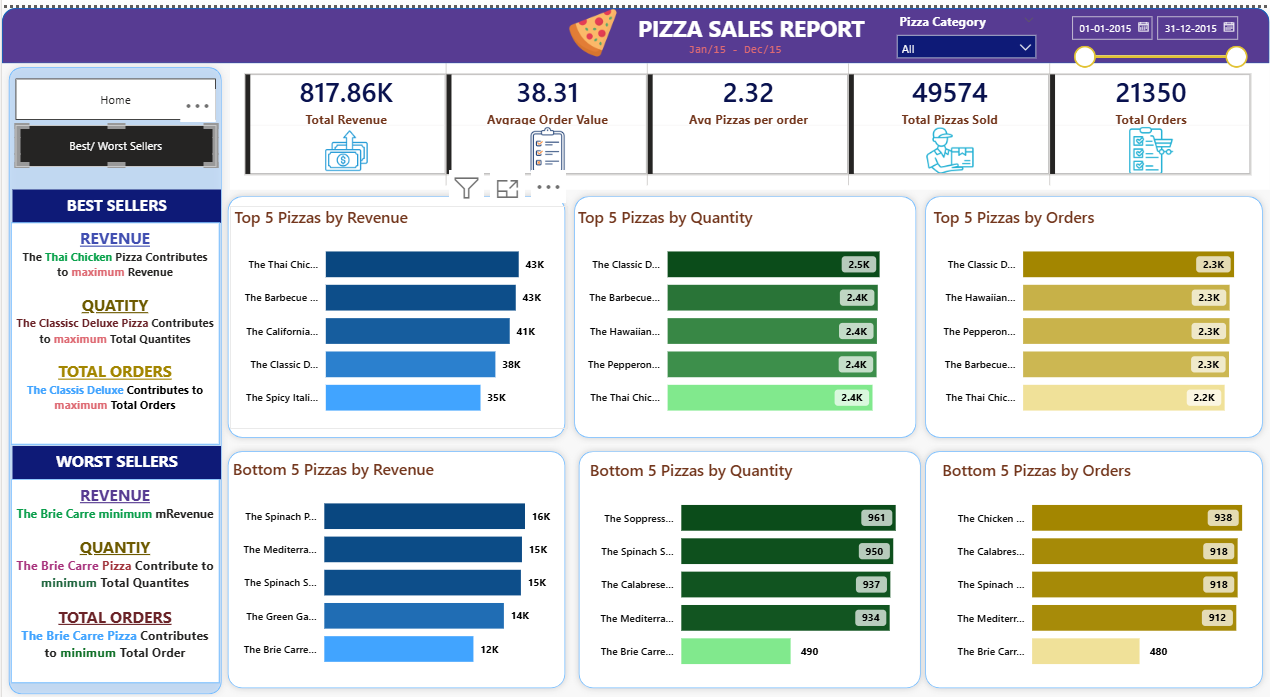

What the dashboard file says about the page in this screenshot:
{"tool":"powerbi","page":{"name":"Best/ Worst Sellers","canvas":[1500,820],"ordinal":1},"visuals":[{"type":"cardVisual","fields":{"Data":["pizza_sales.Total Revenue","pizza_sales.Avgrage Order Value","pizza_sales.Avg Pizzas per order","pizza_sales.Total Pizzas Sold","pizza_sales.Total Orders"]},"box":[269.7,60.3,1229.7,154.4],"z":0},{"type":"actionButton","box":[0,0,100,40],"z":1000},{"type":"shape","box":[0,0,1499.4,65.7],"z":2000},{"type":"textbox","box":[724,0,324.7,58.6],"z":3000},{"type":"textbox","box":[807.4,33.7,136.6,28.4],"z":4000},{"type":"image","box":[647.7,0,102.9,58.6],"z":5000},{"type":"shape","box":[0,62.1,267.9,757.7],"z":12000},{"type":"textbox","box":[12.4,214.7,246.6,39],"z":17000},{"type":"textbox","box":[10.6,253.7,246.6,262.6],"z":18000},{"type":"textbox","box":[12.4,518.1,246.6,39],"z":19000},{"type":"textbox","box":[10.6,557.2,246.6,241.3],"z":20000},{"type":"slicer","fields":{"Values":["pizza_sales.pizza_category"]},"box":[1048.7,0,184.5,63.9],"z":21000},{"type":"slicer","fields":{"Values":["pizza_sales.order_date"]},"box":[1252.8,0,228.9,83.4],"z":22000},{"type":"shape","box":[259.1,214.7,415.2,301.7],"z":22001},{"type":"shape","box":[669,214.7,420.5,301.7],"z":22002},{"type":"shape","box":[1084.2,214.7,415.2,301.7],"z":22003},{"type":"shape","box":[259.1,516.4,415.2,296.3],"z":22004},{"type":"shape","box":[674.3,516.4,420.5,296.3],"z":22005},{"type":"shape","box":[1084.2,516.4,415.2,296.3],"z":22006},{"type":"barChart","title":"Top 5 Pizzas by Revenue","fields":{"Category":["pizza_sales.pizza_name"],"Y":["pizza_sales.Total Revenue"]},"box":[270.2,234.7,398.6,263.5],"z":22007},{"type":"barChart","title":"Bottom 5 Pizzas by Revenue","fields":{"Category":["pizza_sales.pizza_name"],"Y":["pizza_sales.Total Revenue"]},"box":[268.8,533,398.5,262.6],"z":22008},{"type":"barChart","title":"Top 5 Pizzas by Quantity","fields":{"Category":["pizza_sales.pizza_name"],"Y":["pizza_sales.Total Pizzas Sold"]},"box":[675.4,234.7,392,263.5],"z":22009},{"type":"barChart","title":"Bottom 5 Pizzas by Quantity","fields":{"Category":["pizza_sales.pizza_name"],"Y":["pizza_sales.Total Pizzas Sold"]},"box":[691,533.7,398.6,263.5],"z":22010},{"type":"barChart","title":"Top 5 Pizzas by Orders","fields":{"Category":["pizza_sales.pizza_name"],"Y":["pizza_sales.Total Orders"]},"box":[1096.2,234.7,392,263.5],"z":22011},{"type":"barChart","title":"Bottom 5 Pizzas by Orders","fields":{"Category":["pizza_sales.pizza_name"],"Y":["pizza_sales.Total Orders"]},"box":[1107.3,533.7,392,263.5],"z":22012},{"type":"pageNavigator","box":[16,138.4,237.8,49.7],"z":22013},{"type":"pageNavigator","box":[16,83.4,237.8,49.7],"z":22014}]}

Visuals, with their boxes in screenshot pixels (x1, y1, x2, y2), scaled from the page's 1500x820 canvas onto the 1270x697 screenshot:
cardVisual - pizza_sales.Total Revenue x pizza_sales.Avgrage Order Value: 228/51/1269/182
actionButton: 0/0/85/34
shape: 0/0/1269/56
textbox: 613/0/888/50
textbox: 684/29/799/53
image: 548/0/636/50
shape: 0/53/227/696
textbox: 10/182/219/216
textbox: 9/216/218/439
textbox: 10/440/219/474
textbox: 9/474/218/679
slicer - pizza_sales.pizza_category: 888/0/1044/54
slicer - pizza_sales.order_date: 1061/0/1255/71
shape: 219/182/571/439
shape: 566/182/922/439
shape: 918/182/1269/439
shape: 219/439/571/691
shape: 571/439/927/691
shape: 918/439/1269/691
"Top 5 Pizzas by Revenue" barChart: 229/199/566/423
"Bottom 5 Pizzas by Revenue" barChart: 228/453/565/676
"Top 5 Pizzas by Quantity" barChart: 572/199/904/423
"Bottom 5 Pizzas by Quantity" barChart: 585/454/923/678
"Top 5 Pizzas by Orders" barChart: 928/199/1260/423
"Bottom 5 Pizzas by Orders" barChart: 938/454/1269/678
pageNavigator: 14/118/215/160
pageNavigator: 14/71/215/113
